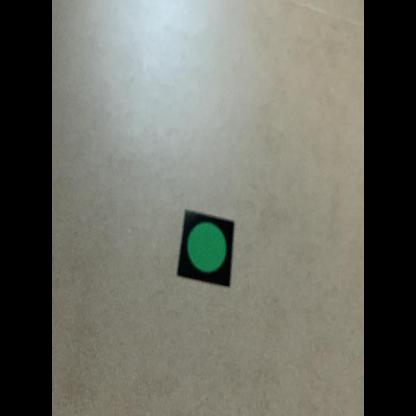go: (177, 208, 236, 290)
